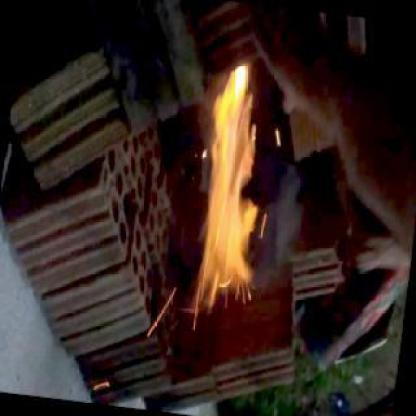Fire: (192, 54, 272, 317)
